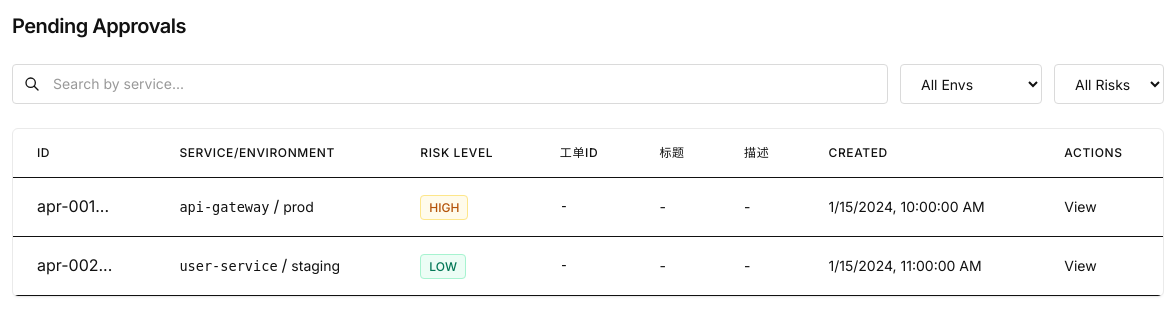
Scenario: ApprovalsPage › filters by service
The image size is (1176, 314).
Expected: the link "apr-001..." is shown, x1=37 y1=196 x2=109 y2=216
Type "api" into the field with placeholder "Search by service..." at (450, 84), box x1=12 y1=64 x2=888 y2=104
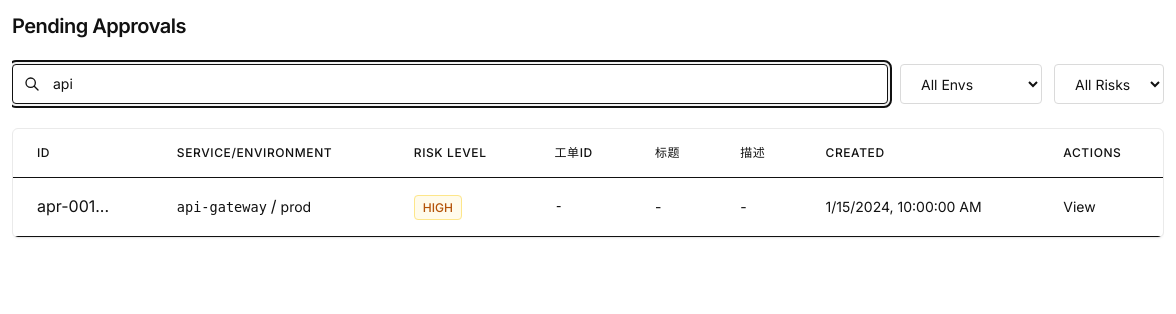
Expected: the link "apr-001..." is shown, x1=37 y1=196 x2=109 y2=216
Now the link "apr-002..." is gone
